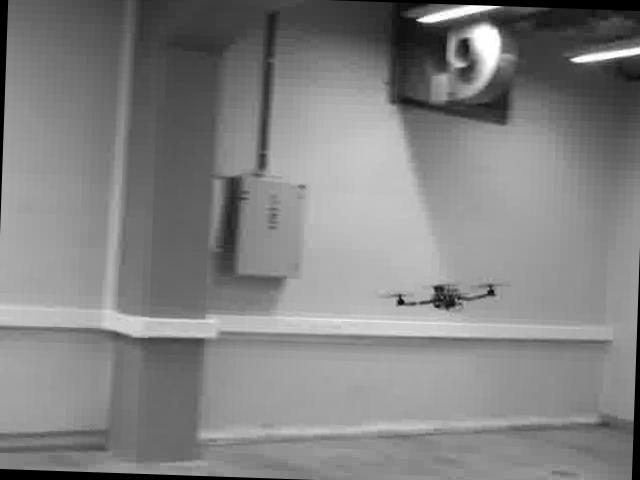drone: (384, 276, 504, 317)
